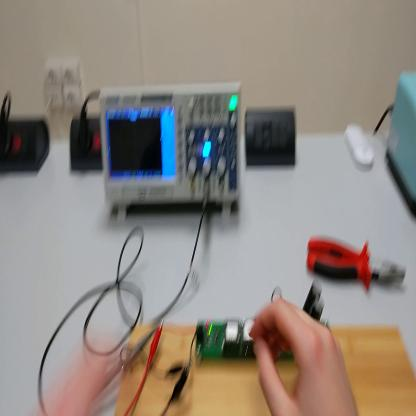hand: (249, 301, 358, 415), (38, 339, 131, 416)
high voltage board: (161, 292, 335, 370)
oscilloscope: (101, 78, 243, 222)
oscilloscope probe tip: (102, 306, 160, 397)
pliers: (304, 235, 409, 292)
socket: (1, 116, 54, 177), (70, 118, 107, 175)
welder station: (390, 71, 416, 222)
working area: (119, 320, 416, 416)
